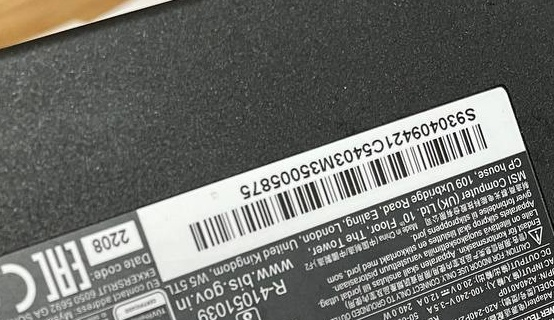1d: (188, 120, 488, 253)
